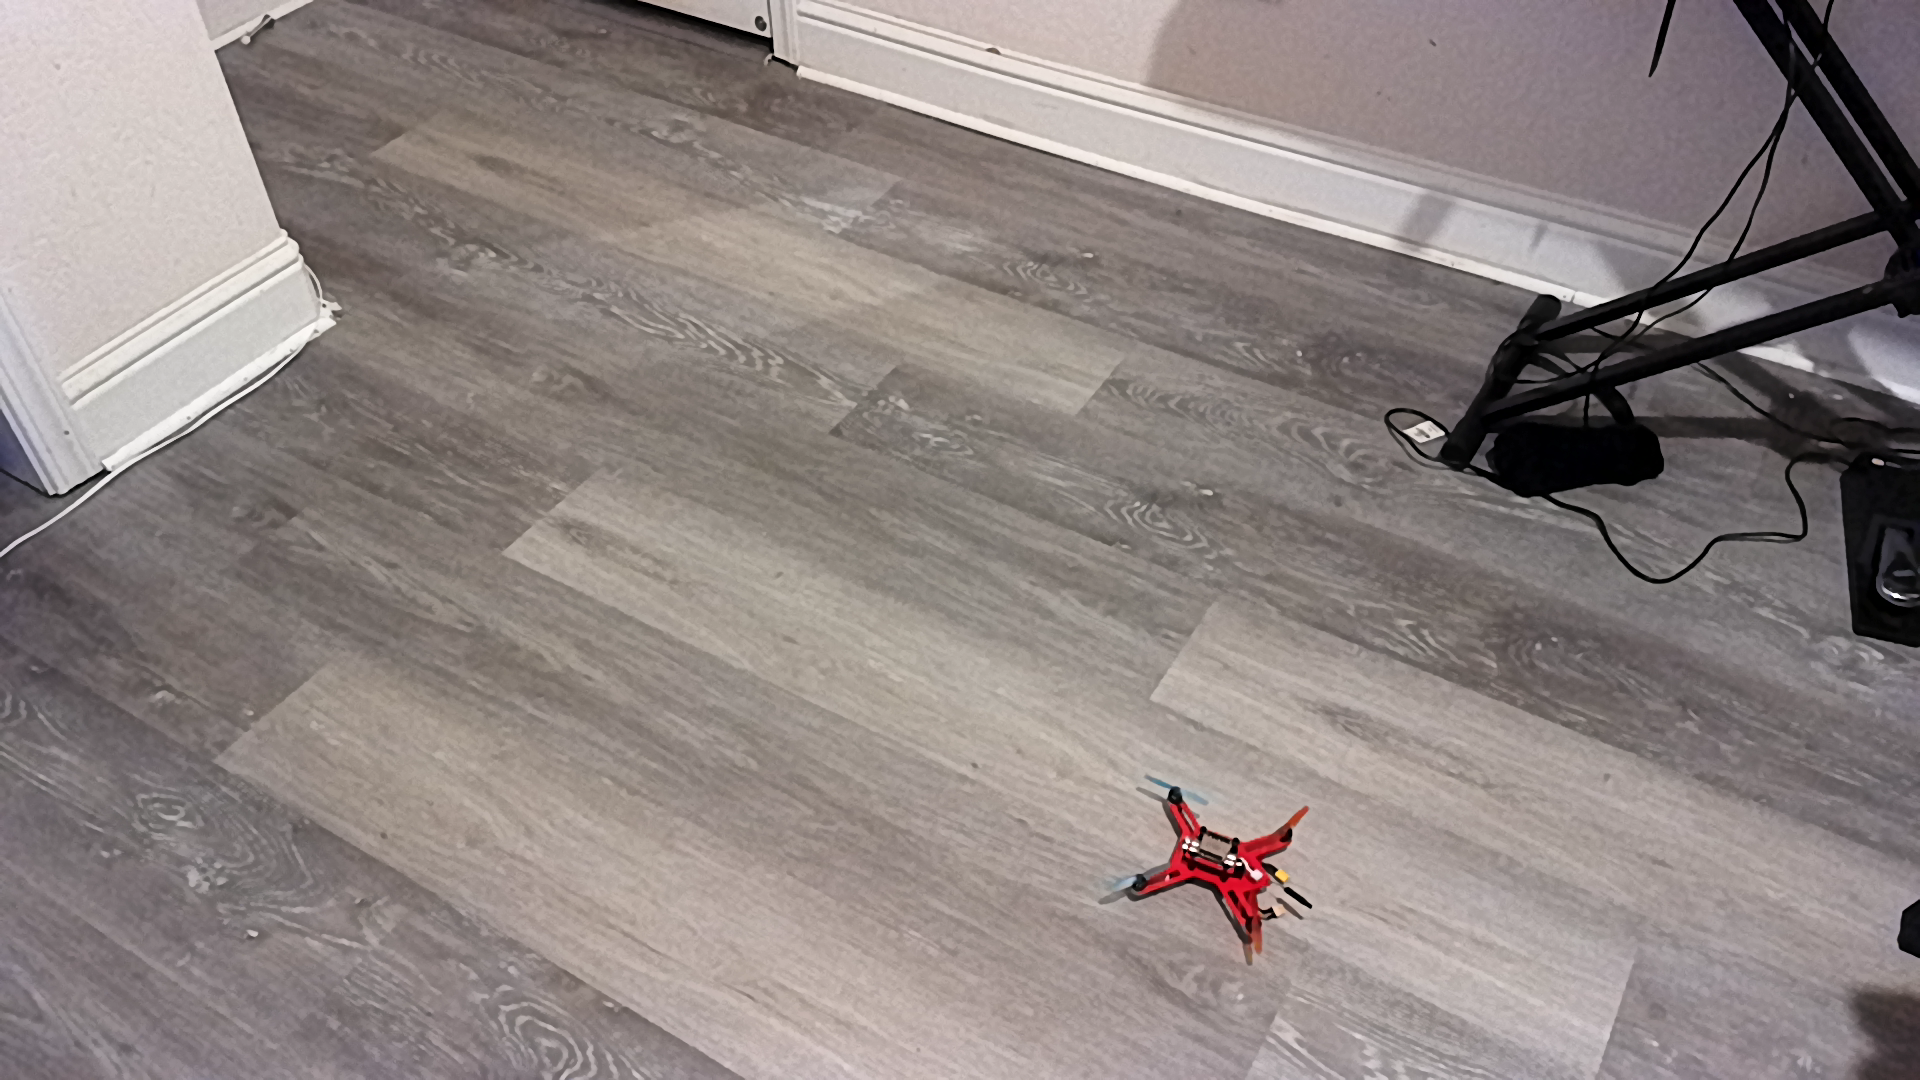drone: (1095, 770, 1329, 971)
